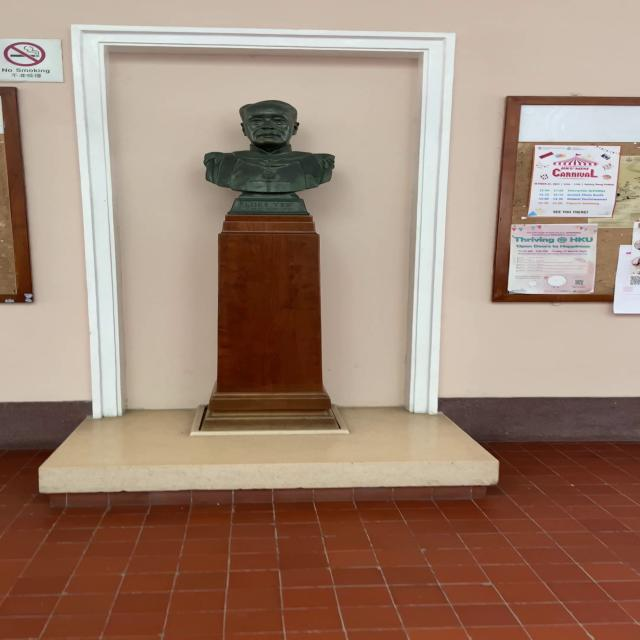statues: (193, 96, 345, 220)
